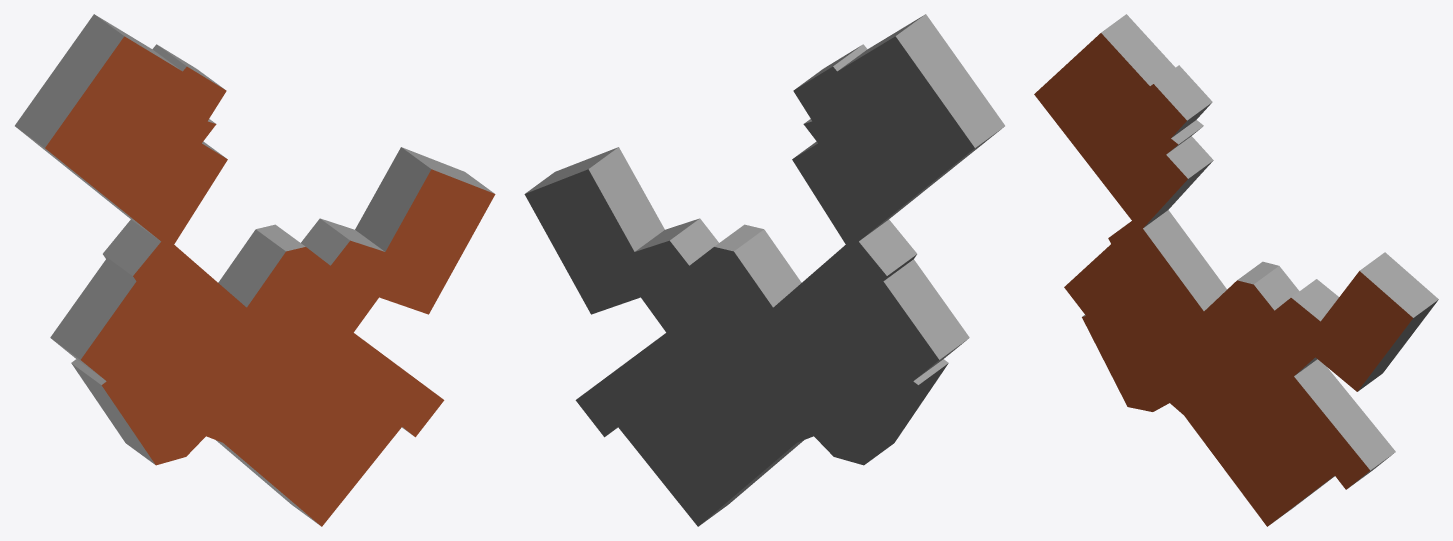
Rendered from construction_2184_assumed_A_Casa_h6m.obj.
The picture shows the model from 3 angles, left to right: view 1: azimuth 30°, elevation 25°; view 2: azimuth 150°, elevation 25°; view 3: azimuth 330°, elevation 25°; orthographic projection. The views are drawn at different scales.
Parts seen in each view (by area): view 1: construction_2184_assumed_A_Casa; view 2: construction_2184_assumed_A_Casa; view 3: construction_2184_assumed_A_Casa.
Part boxes in pixels (bbox=[...]): construction_2184_assumed_A_Casa: bbox=[15, 14, 495, 526]; construction_2184_assumed_A_Casa: bbox=[524, 14, 1004, 526]; construction_2184_assumed_A_Casa: bbox=[1034, 14, 1438, 526].
Size of the model in its own units: 51.35 by 58.69 by 6.
